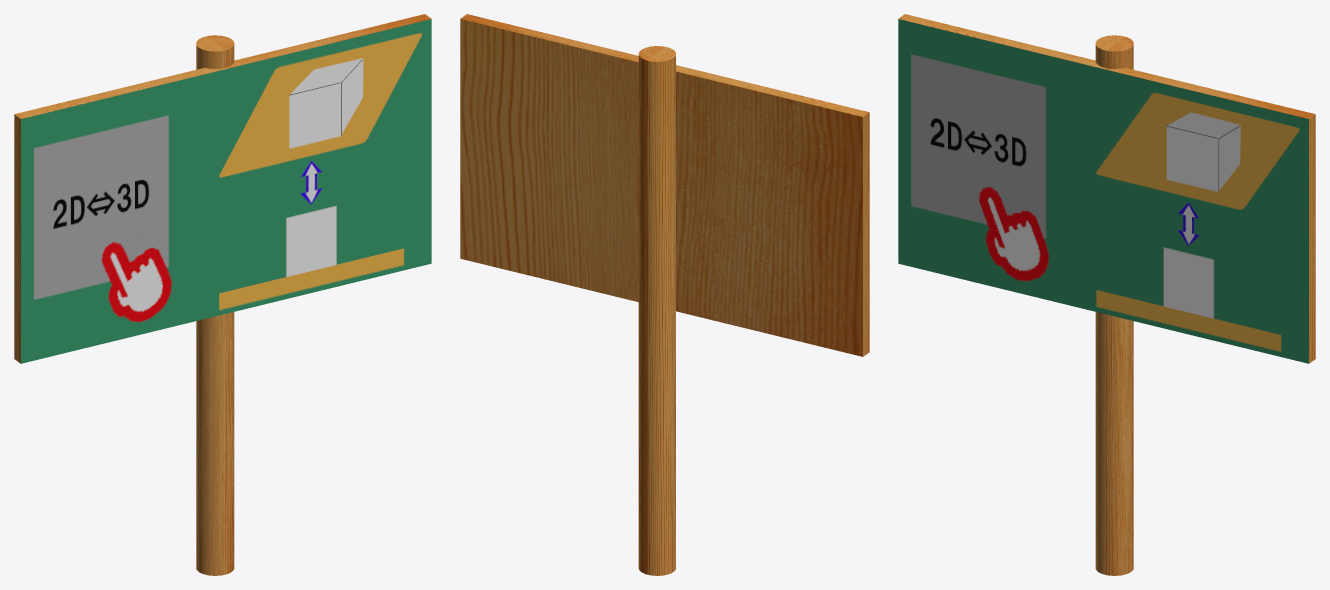
File: TutoSinBord_2D3D.FBX
3 views of the same model, side by side, from view 1: azimuth 30°, elevation 25°; view 2: azimuth 150°, elevation 25°; view 3: azimuth 330°, elevation 25° (orthographic). The views are drawn at different scales.
Visible parts, largest first — view 1: Box001, Cylinder001; view 2: Box001, Cylinder001; view 3: Box001, Cylinder001.
Boxes of the visible parts, x1,y1,x2,y2 form: Box001: [14, 14, 431, 363]; Cylinder001: [196, 35, 234, 575]; Box001: [460, 14, 869, 356]; Cylinder001: [638, 46, 675, 575]; Box001: [898, 14, 1315, 363]; Cylinder001: [1095, 35, 1133, 575].
Size of the model in its own units: 480 by 586 by 41.67.
Materials: 2 (2 with a texture image).
